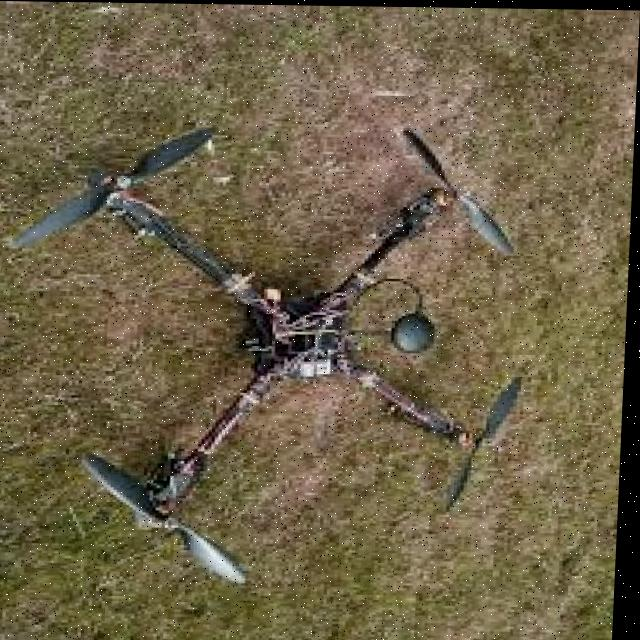drone: (2, 125, 533, 586)
